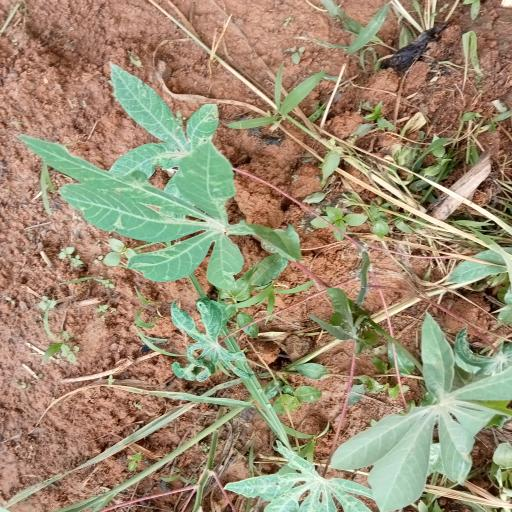Cassava_Mosaic: (54, 71, 243, 288), (226, 442, 381, 512)
